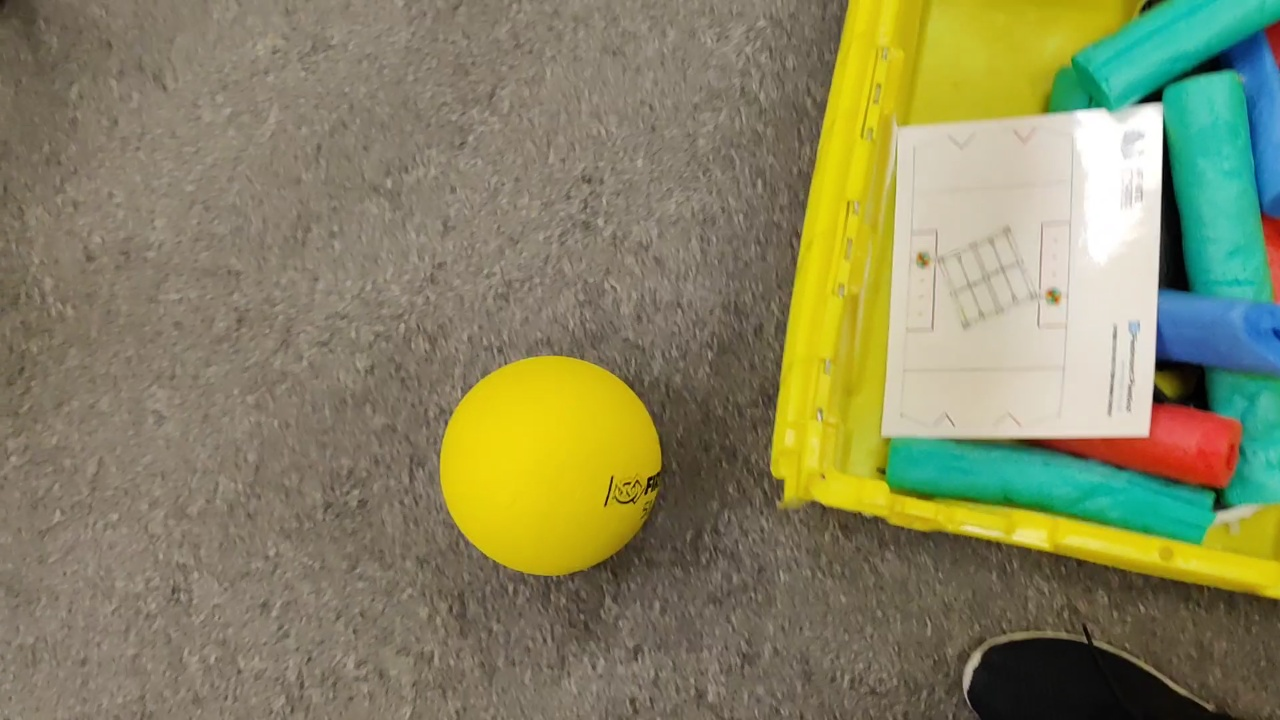Ball: (436, 355, 664, 574)
